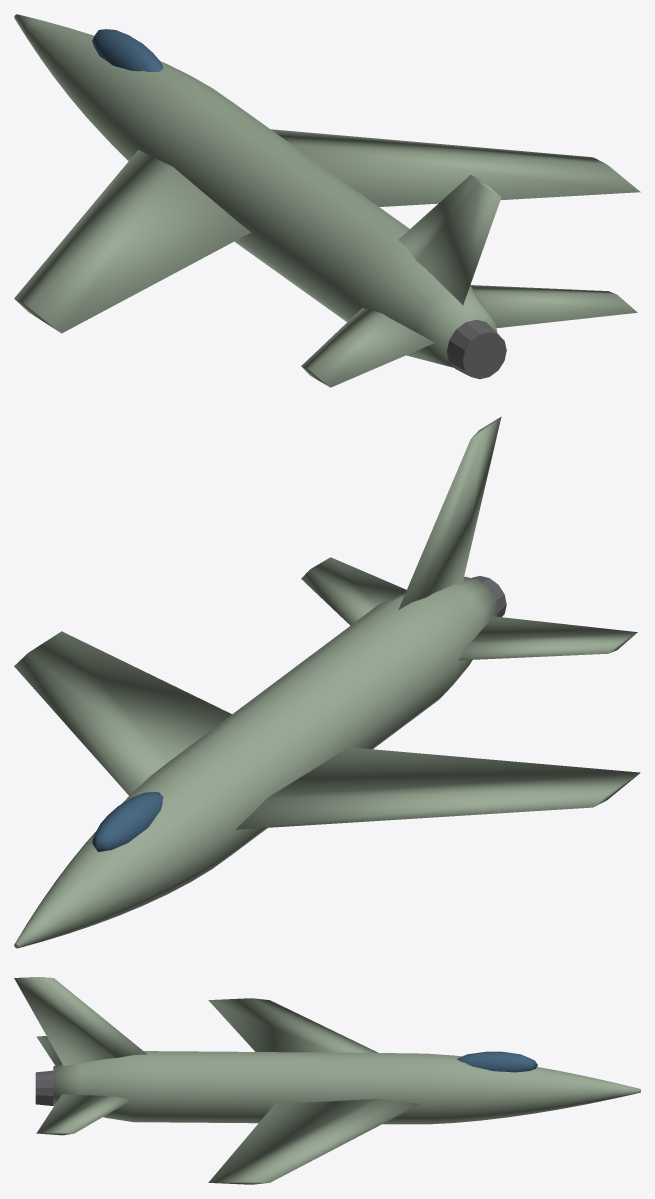
File: hunter.fbx
3 views of the same model, one above another, from view 1: azimuth 30°, elevation 25°; view 2: azimuth 150°, elevation 25°; view 3: azimuth 270°, elevation 25° (orthographic). The views are drawn at different scales.
Visible parts, largest first — view 1: Body, Detail, Canopy; view 2: Body, Canopy; view 3: Body, Canopy, Detail.
Part boxes in pixels (x1=…): Body: x1=14, y1=14, x2=640, y2=387; Detail: x1=447, y1=319, x2=506, y2=379; Canopy: x1=92, y1=29, x2=163, y2=71; Body: x1=14, y1=416, x2=640, y2=948; Canopy: x1=92, y1=791, x2=163, y2=851; Body: x1=14, y1=977, x2=640, y2=1184; Canopy: x1=457, y1=1051, x2=537, y2=1072; Detail: x1=35, y1=1070, x2=53, y2=1105.
Bounding box in the file's own units: 1030 × 376 × 1494.
